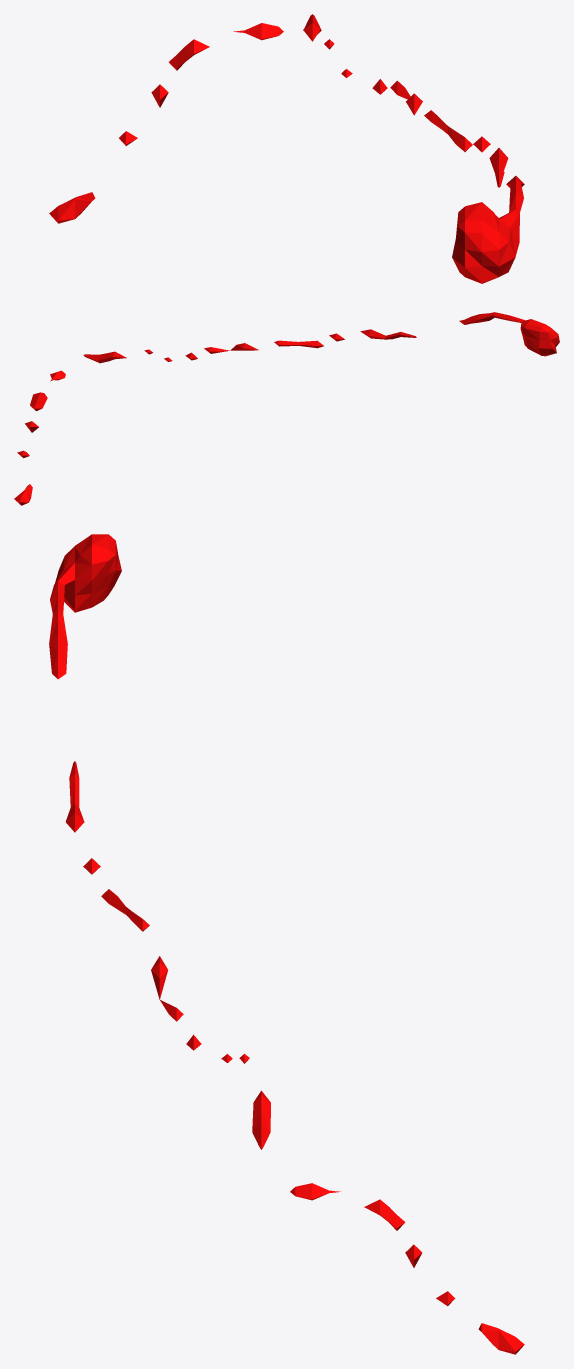
The model's file is fruB_coarse.dae.
The picture shows the model from 3 angles, top to bottom: view 1: azimuth 90°, elevation 25°; view 2: azimuth 150°, elevation 25°; view 3: azimuth 270°, elevation 25°; orthographic projection. The views are drawn at different scales.
Visible parts, largest first — view 1: fruB; view 2: fruB; view 3: fruB.
Boxes of the visible parts, x1,y1,x2,y2 form: fruB: (49,14,524,283); fruB: (14,312,559,505); fruB: (49,534,524,1354).
Size of the model in its own units: 536 by 236 by 245.
